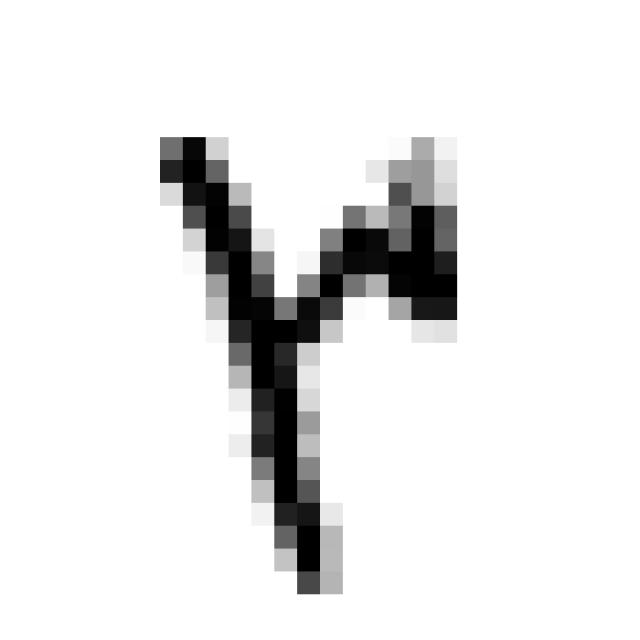3 -three-: (137, 107, 476, 607)
